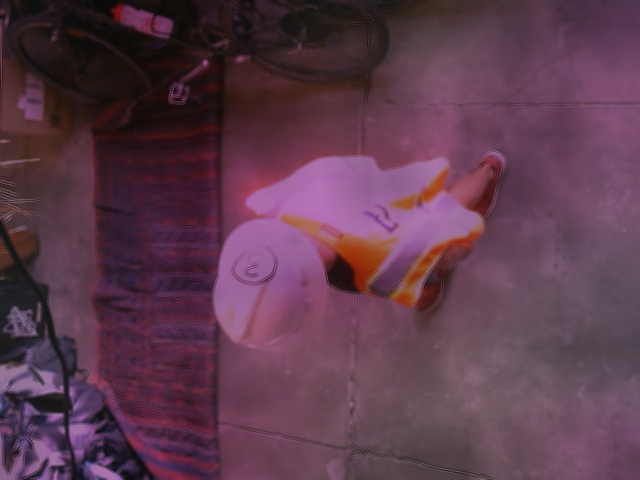three: (232, 243, 275, 284)
